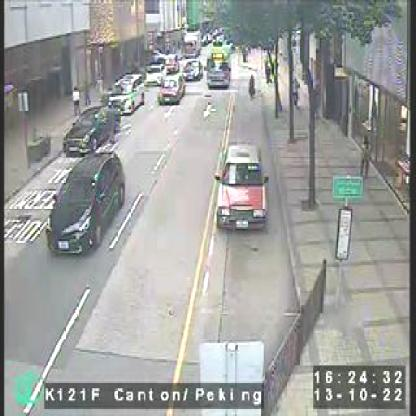Car: (48, 150, 126, 258), (217, 144, 268, 230), (63, 100, 119, 159), (214, 187, 269, 232), (108, 72, 146, 116), (157, 73, 186, 106), (182, 59, 201, 81)
Minibus: (205, 45, 232, 89)
